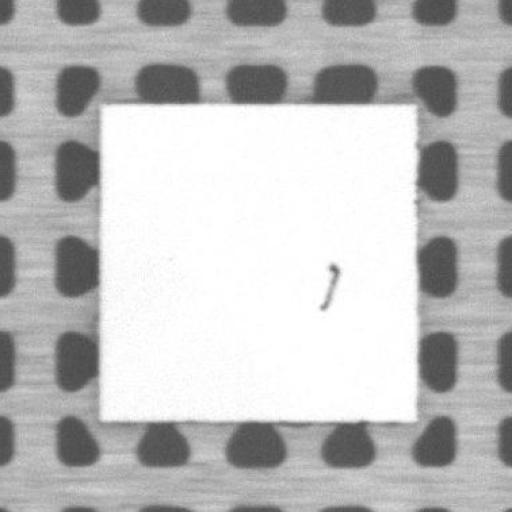DIE_INK: (318, 262, 339, 311)
